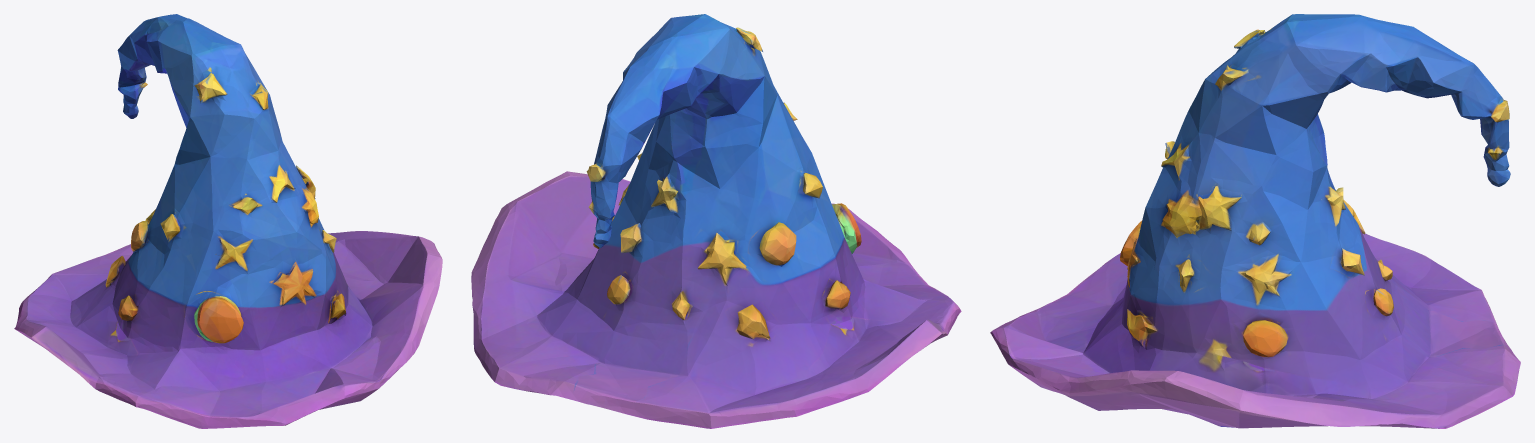
Rendered from A_magical_hat_low_po_0514172112_texture.fbx.
3 views of the same model, side by side, from view 1: azimuth 30°, elevation 25°; view 2: azimuth 150°, elevation 25°; view 3: azimuth 270°, elevation 25° (orthographic). The views are drawn at different scales.
Parts seen in each view (by area): view 1: temp; view 2: temp; view 3: temp.
Boxes of the visible parts, x1,y1,x2,y2 form: temp: (14,14,442,428); temp: (471,14,961,428); temp: (990,14,1520,428).
Size of the model in its own units: 200 by 144 by 197.
1 material, 1 textured.
